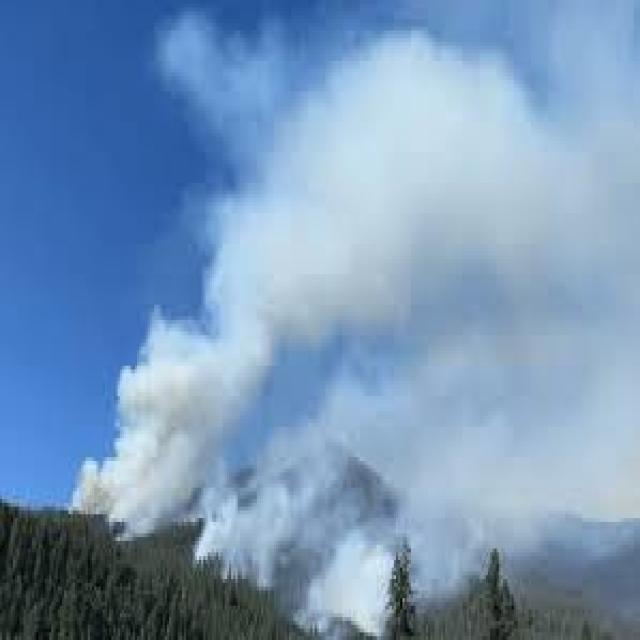Smoke: (61, 298, 410, 640), (65, 330, 309, 528), (187, 478, 308, 584), (289, 529, 381, 640)
